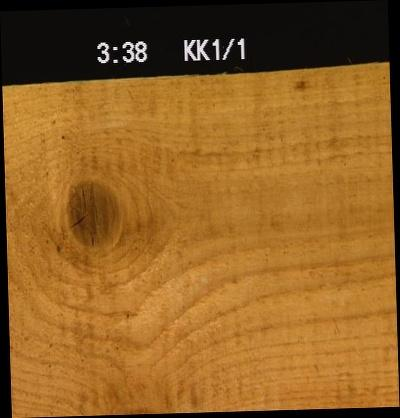sound_knot: (62, 177, 121, 250)
